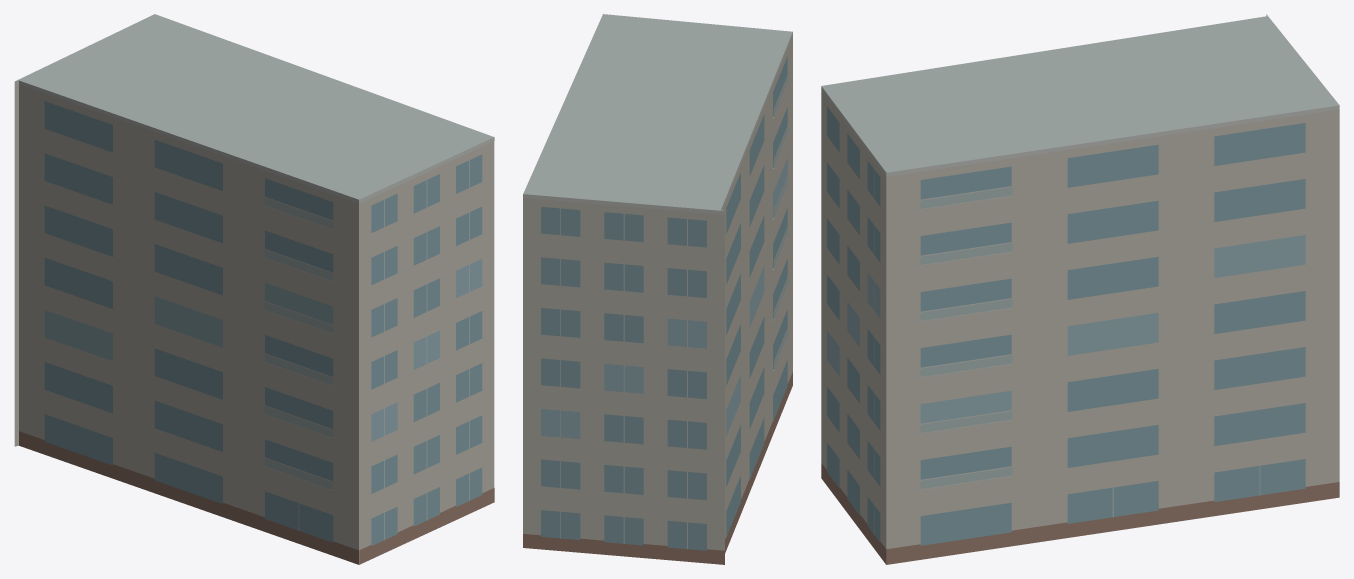
The model's file is survey-upis-32834071.glb.
3 renders of one model, left to right at view 1: azimuth 30°, elevation 25°; view 2: azimuth 150°, elevation 25°; view 3: azimuth 270°, elevation 25°, orthographic. The views are drawn at different scales.
Visible parts, largest first — view 1: survey-upis-32834071.tmp; view 2: survey-upis-32834071.tmp; view 3: survey-upis-32834071.tmp.
Part boxes in pixels (<box>): survey-upis-32834071.tmp: <box>14,14,494,564</box>; survey-upis-32834071.tmp: <box>523,14,792,564</box>; survey-upis-32834071.tmp: <box>821,14,1339,564</box>.
Bounding box in the file's own units: 19.63 × 22.6 × 27.09.
